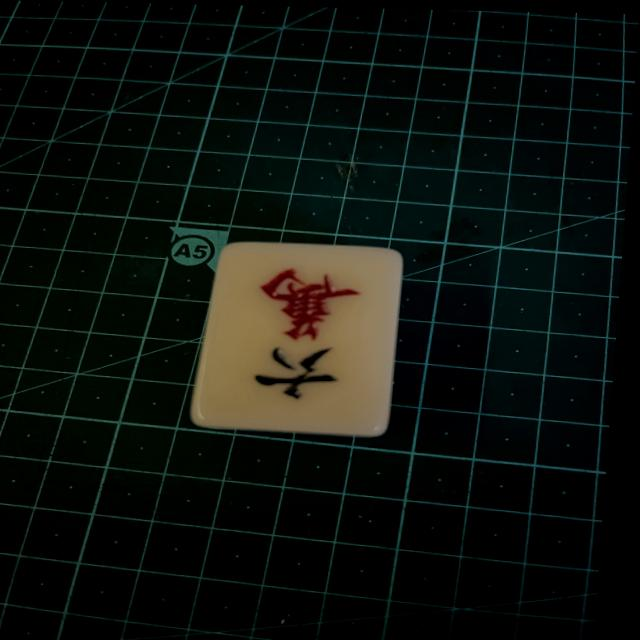6C: (214, 251, 385, 417)
